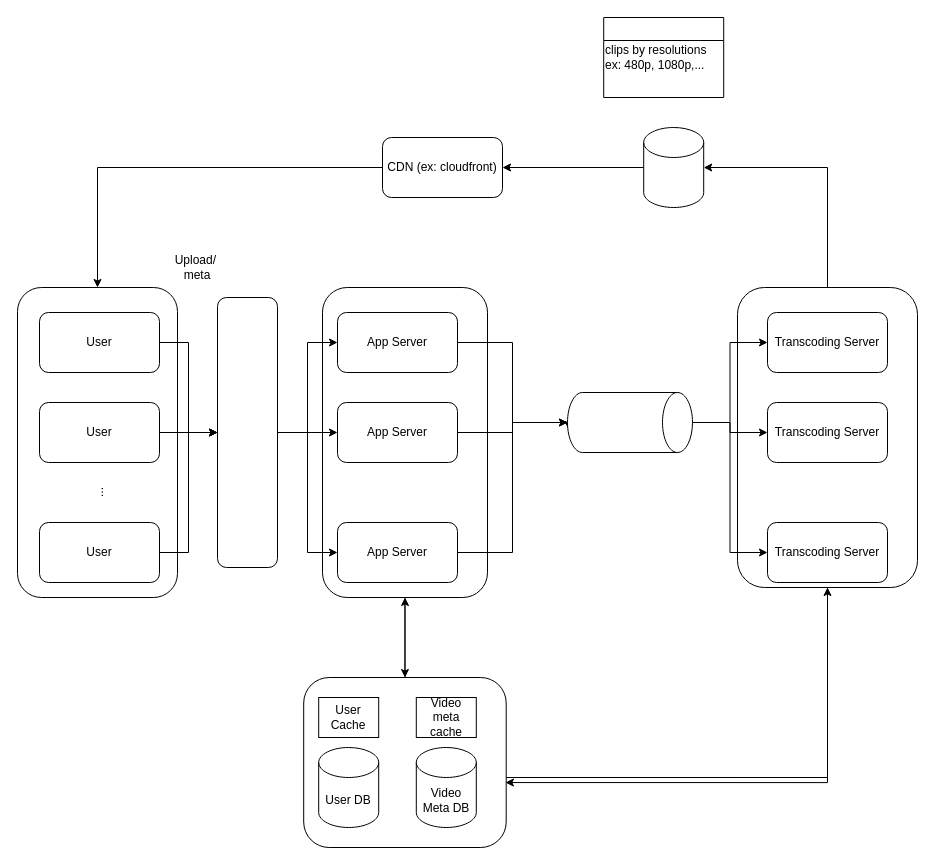
This 935x865 diagram has some shape labels left out. Each missing label, with the box of its shape:
LB: (216, 296, 278, 568)
Media info: (603, 16, 724, 98)
Media Storage: (643, 126, 704, 208)
Transcoding Task Queue: (566, 392, 692, 452)
